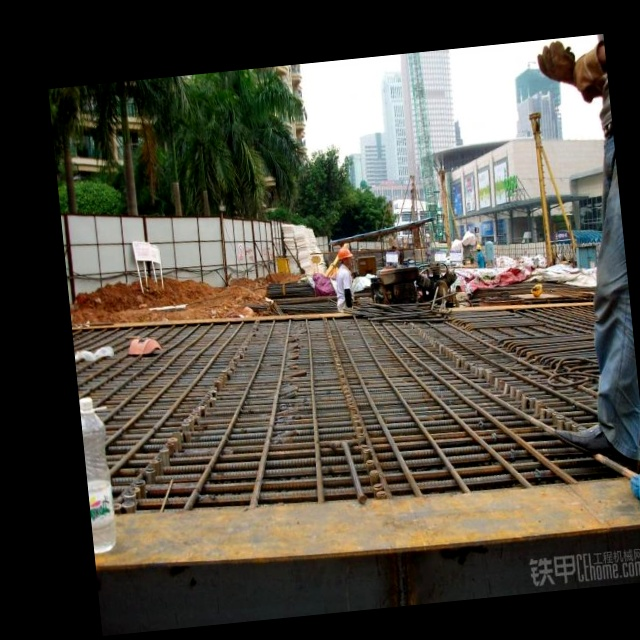Con_Casco: (338, 246, 354, 266)
Sin_Chaleco: (333, 267, 357, 309)
